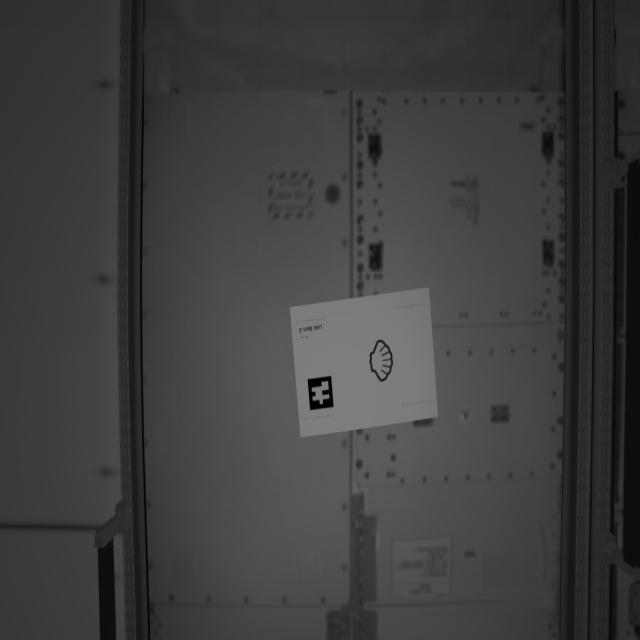shell: (365, 343, 406, 388)
